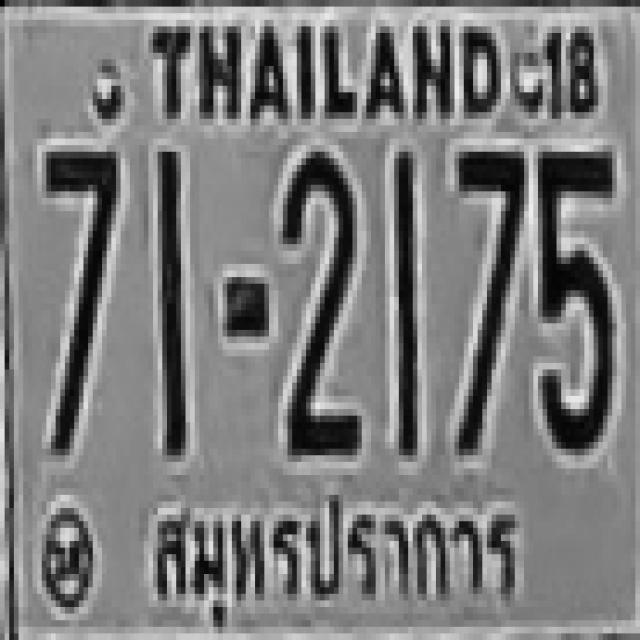1: (390, 152, 418, 422), (156, 152, 183, 422)
2: (280, 149, 354, 432), (278, 148, 352, 412)
5: (534, 145, 612, 449)
7: (42, 145, 116, 442), (452, 145, 522, 449), (42, 145, 116, 383), (42, 145, 116, 343)
SamutPrakan: (136, 484, 535, 636)
